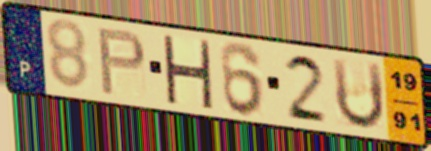2: (281, 53, 329, 126)
6: (218, 39, 267, 120)
8: (43, 17, 96, 95)
H: (160, 32, 215, 112)
P: (95, 26, 149, 98)
U: (329, 55, 387, 132)
